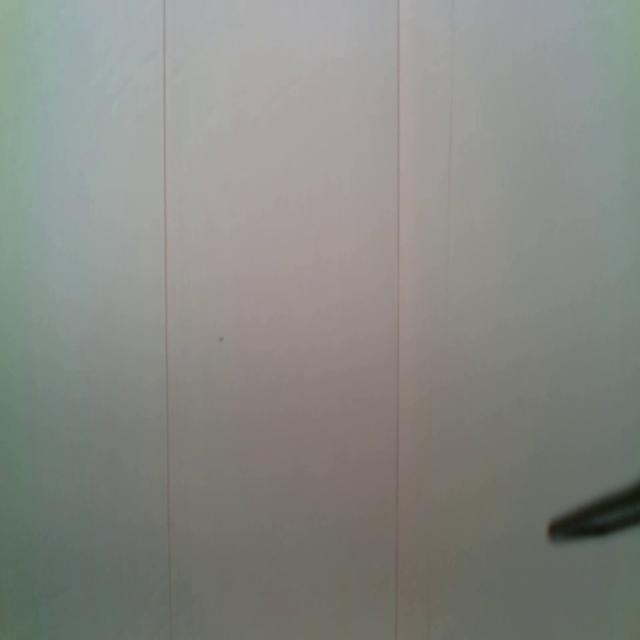crease: (163, 0, 175, 638), (394, 2, 402, 639), (444, 0, 457, 217)
hole: (218, 334, 226, 346)
